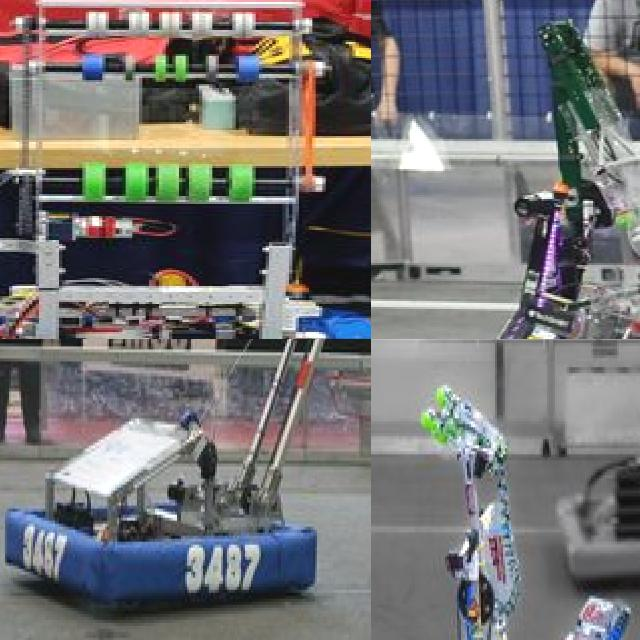FRC-Robots: (0, 0, 371, 339), (0, 339, 356, 610), (371, 0, 640, 339), (371, 339, 640, 640), (542, 345, 640, 587)
